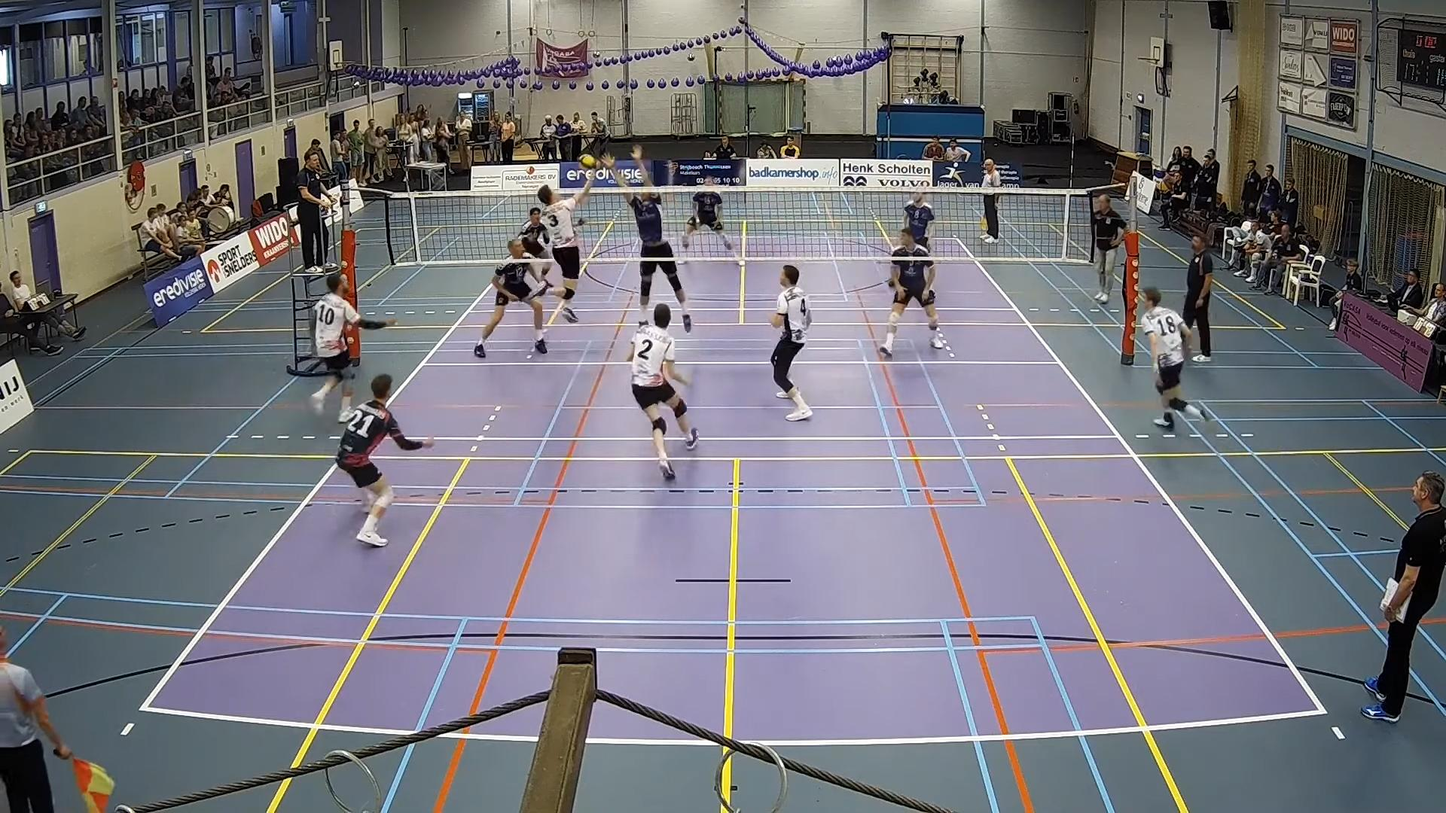Attack: (533, 172, 603, 323)
Block: (602, 142, 705, 337)
Player: (336, 374, 433, 547), (310, 273, 395, 422), (627, 303, 698, 479), (474, 238, 566, 357), (1141, 288, 1205, 429), (879, 229, 944, 357), (770, 265, 812, 421), (682, 176, 732, 251), (903, 192, 935, 249), (517, 207, 550, 258)
ball: (579, 154, 600, 165)
